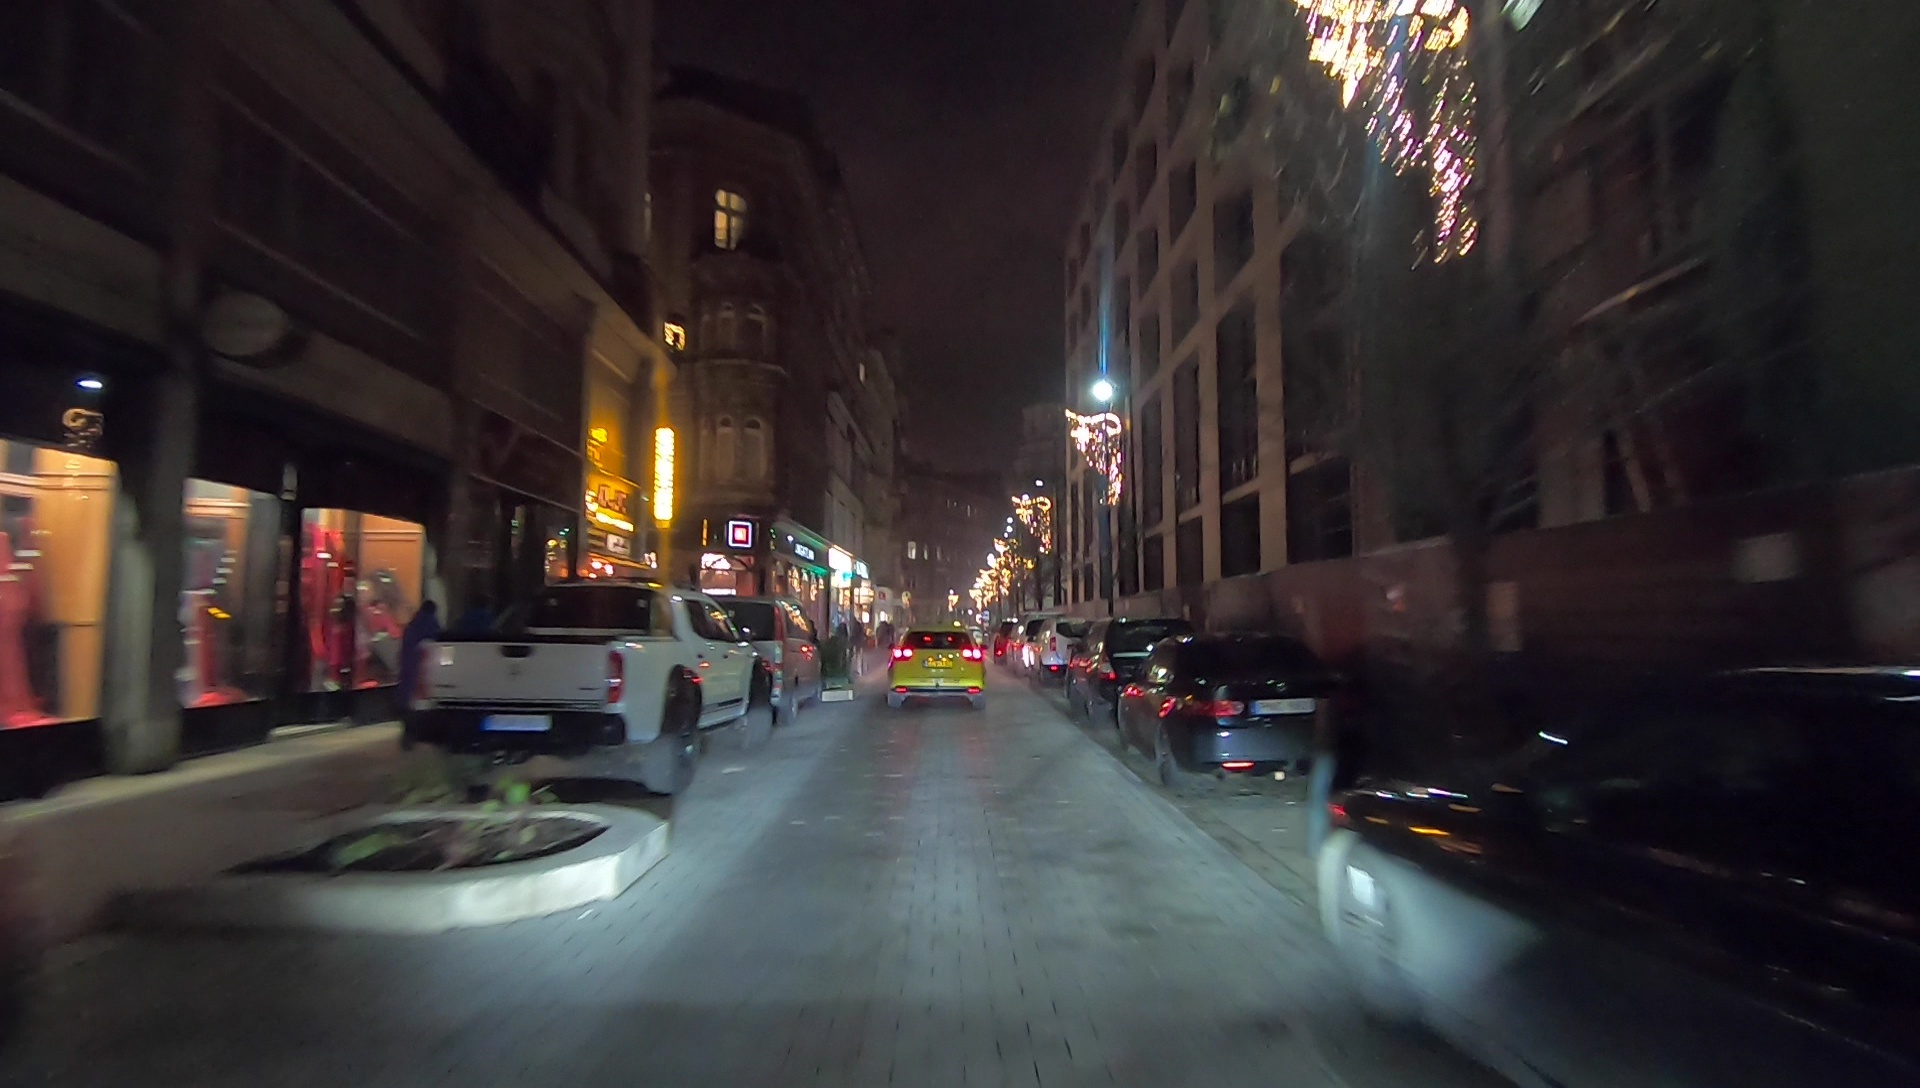person: (397, 602, 445, 758)
